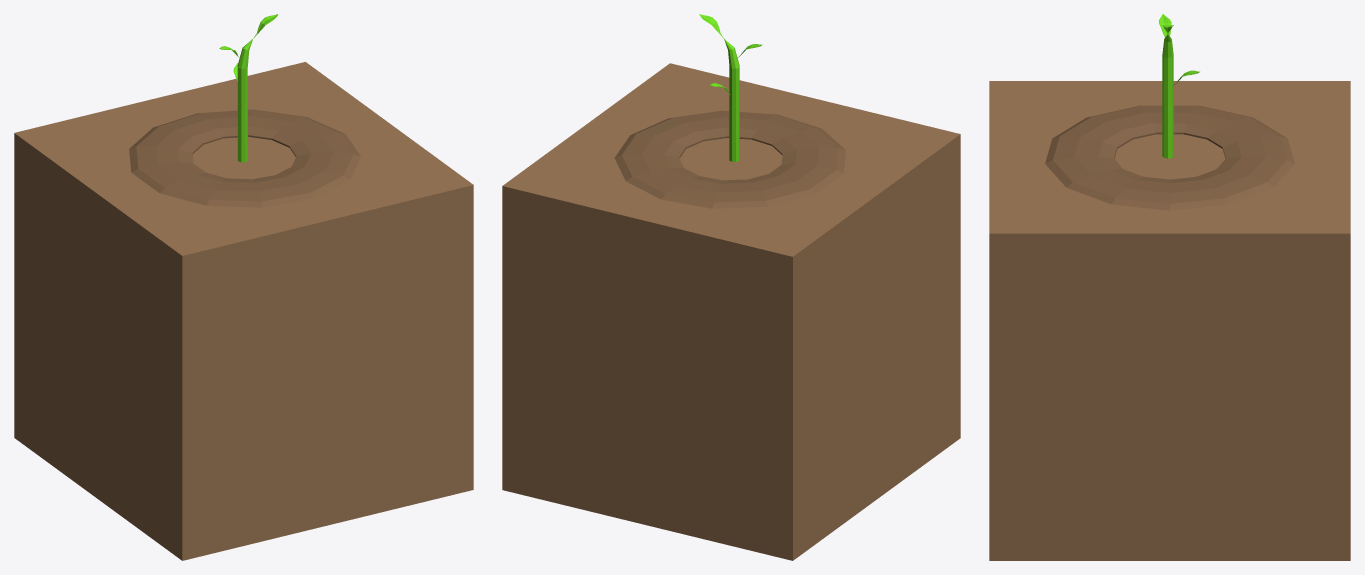
File: DirtBox_Tomato_Phase_1.fbx
3 views of the same model, side by side, from view 1: azimuth 30°, elevation 25°; view 2: azimuth 150°, elevation 25°; view 3: azimuth 270°, elevation 25° (orthographic). The views are drawn at different scales.
Visible parts, largest first — view 1: Cube, Torus, Plant; view 2: Cube, Torus, Plant; view 3: Cube, Torus, Plant.
Part boxes in pixels (x1,y1,x2,y2): Cube: [14, 62, 473, 560]; Torus: [129, 109, 360, 207]; Plant: [219, 14, 278, 162]; Cube: [502, 63, 960, 560]; Torus: [614, 110, 845, 208]; Plant: [699, 14, 762, 161]; Cube: [989, 81, 1350, 560]; Torus: [1045, 105, 1294, 210]; Plant: [1159, 14, 1199, 158].
Bounding box in the file's own units: 100 × 145 × 100.
